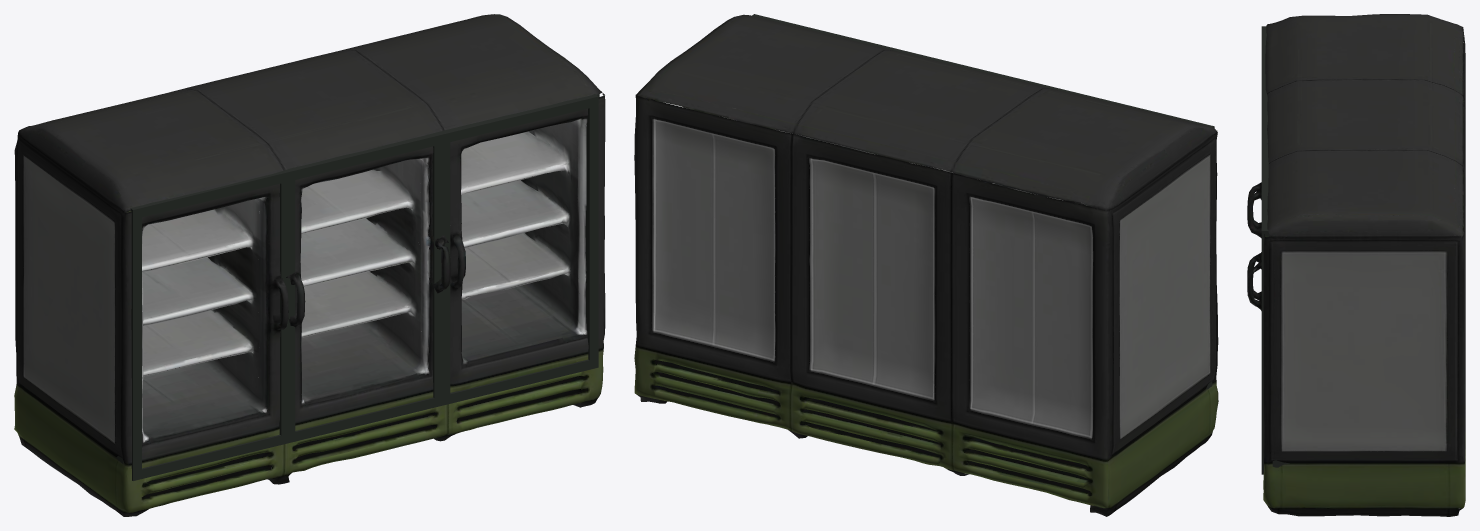
The model's file is dairy.glb.
The picture shows the model from 3 angles, left to right: view 1: azimuth 30°, elevation 25°; view 2: azimuth 150°, elevation 25°; view 3: azimuth 270°, elevation 25°; orthographic projection. The views are drawn at different scales.
Visible parts, largest first — view 1: tripo_node_6ebceb2d, DairyDoor1, DairyDoor3, DairyDoor2; view 2: tripo_node_6ebceb2d, DairyDoor1; view 3: tripo_node_6ebceb2d, DairyDoor3, DairyDoor2, DairyDoor1.
Boxes of the visible parts, x1,y1,x2,y2 form: tripo_node_6ebceb2d: (14, 14, 603, 516); DairyDoor1: (115, 169, 289, 480); DairyDoor3: (438, 93, 605, 405); DairyDoor2: (284, 131, 457, 443); tripo_node_6ebceb2d: (634, 14, 1218, 516); DairyDoor1: (1057, 88, 1218, 398); tripo_node_6ebceb2d: (1263, 14, 1465, 516); DairyDoor3: (1247, 162, 1282, 474); DairyDoor2: (1247, 95, 1268, 300); DairyDoor1: (1247, 26, 1266, 228).
Bounding box in the file's own units: 2.4 × 1.57 × 1.04.
Materials: 2 (1 with a texture image).
